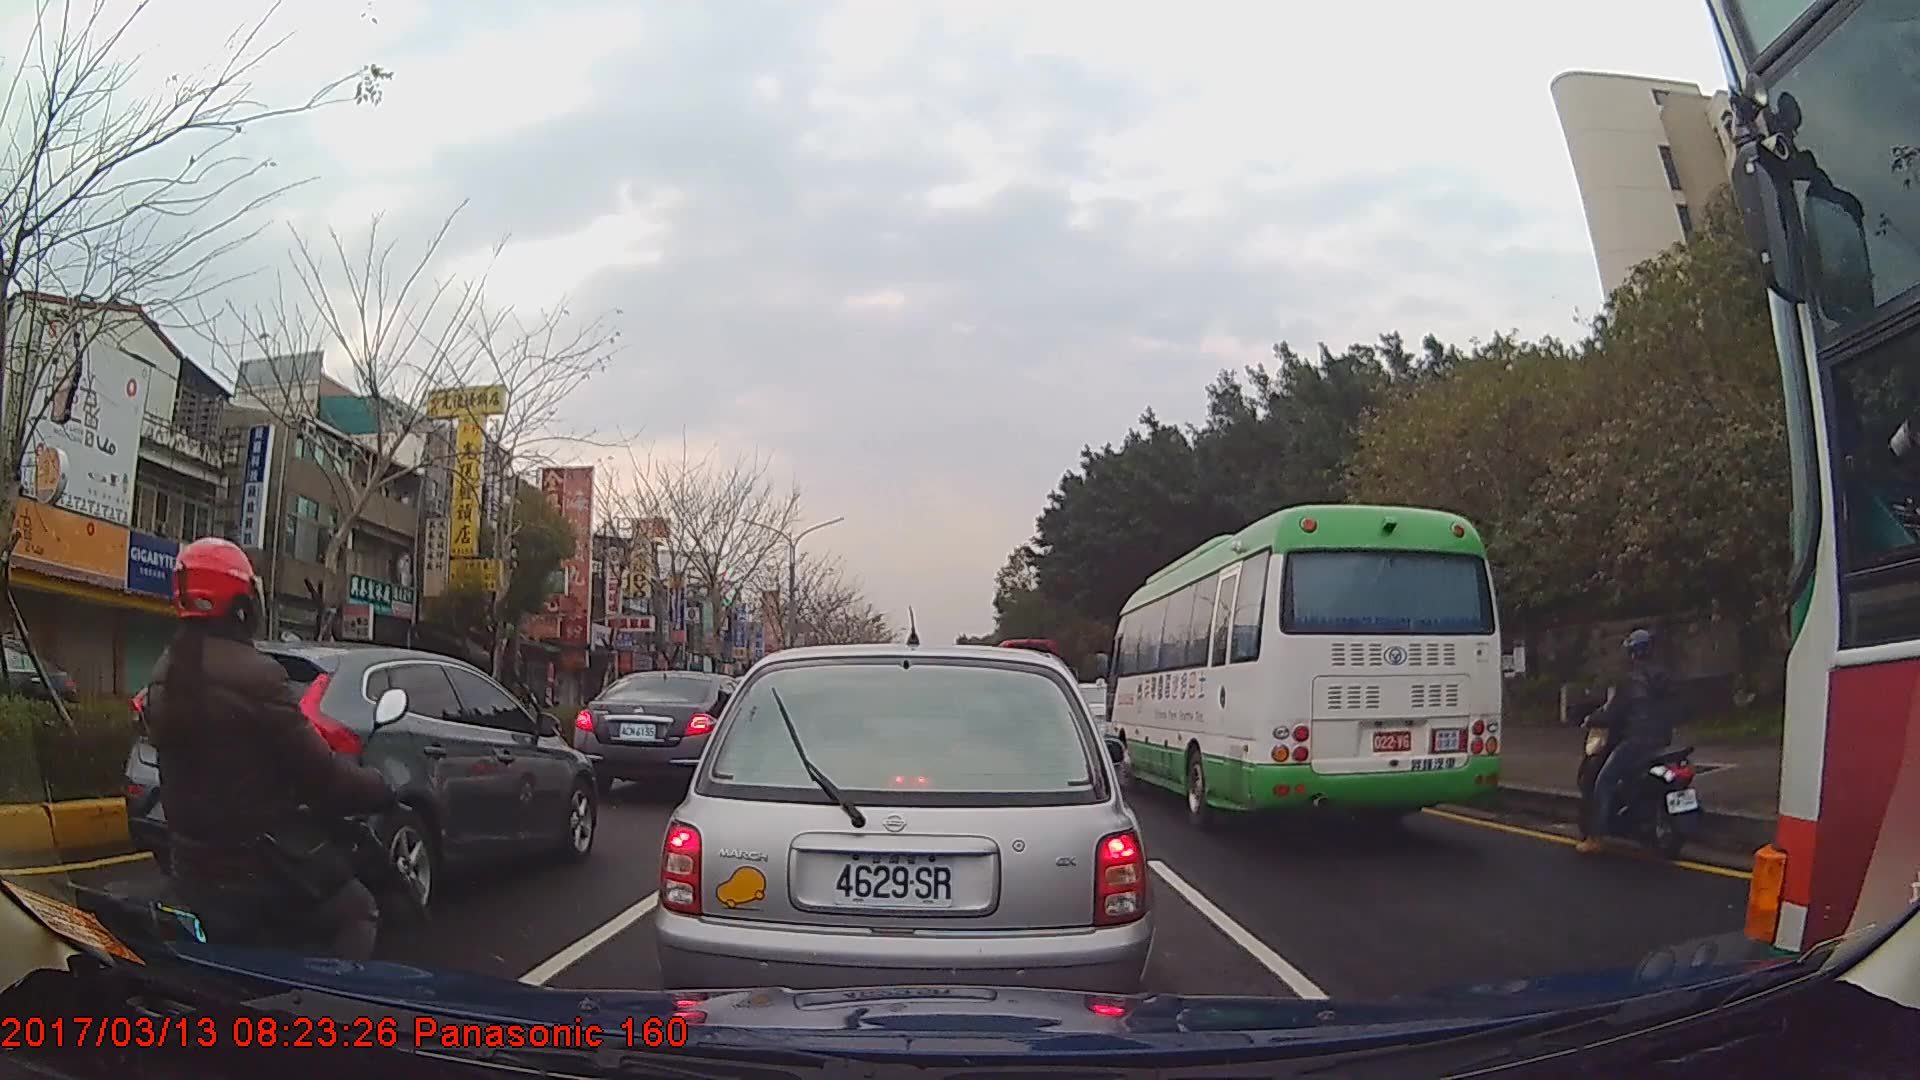rider: (135, 531, 421, 1053), (1573, 626, 1697, 859)
vehicle: (657, 640, 1161, 1037), (123, 644, 597, 922), (1103, 501, 1502, 826), (573, 669, 760, 804), (0, 634, 78, 757)
